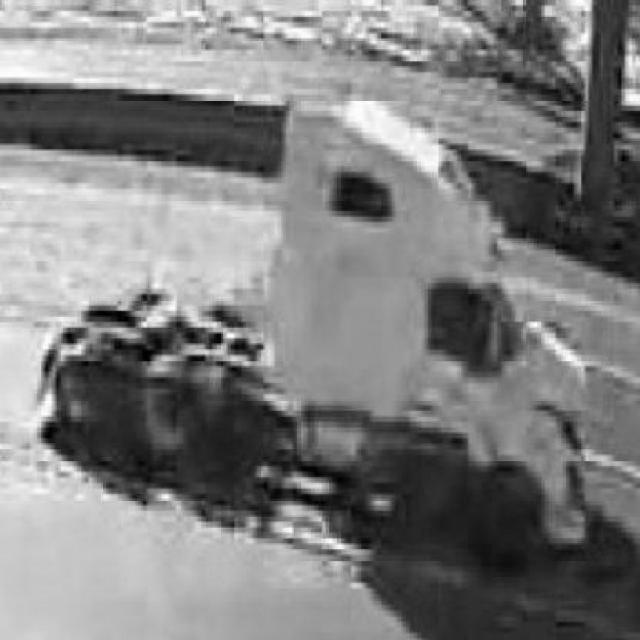Box Truck: (35, 95, 587, 550)
